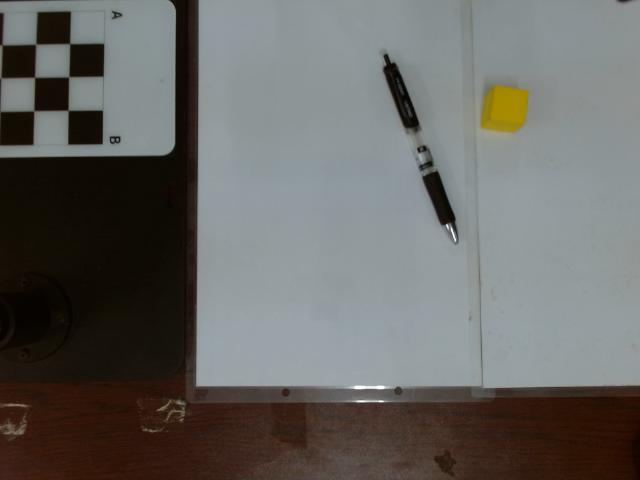PEN: (376, 50, 464, 247)
